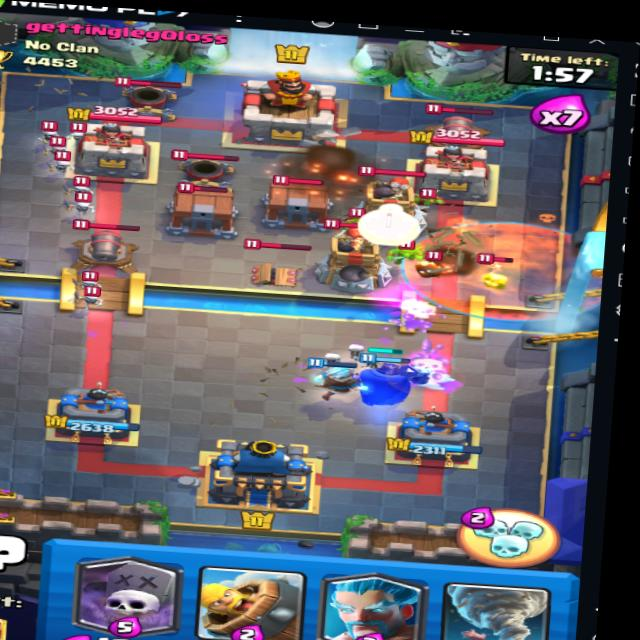Bombtower: (316, 214, 406, 295), (341, 160, 433, 239)
Cannon: (418, 100, 501, 153), (65, 219, 136, 272)
Firespirit: (409, 247, 452, 276), (471, 260, 510, 288)
Goblin: (389, 237, 425, 270), (357, 199, 396, 227)
Goblincage: (259, 168, 341, 228), (165, 180, 248, 236)
Mortar: (113, 65, 190, 120), (168, 149, 239, 187)
Skeleton: (74, 287, 108, 314), (63, 196, 98, 222), (39, 136, 77, 158), (66, 272, 104, 292), (31, 121, 64, 142), (70, 178, 94, 200), (49, 154, 72, 171)
Teslahidden: (238, 236, 315, 290)
